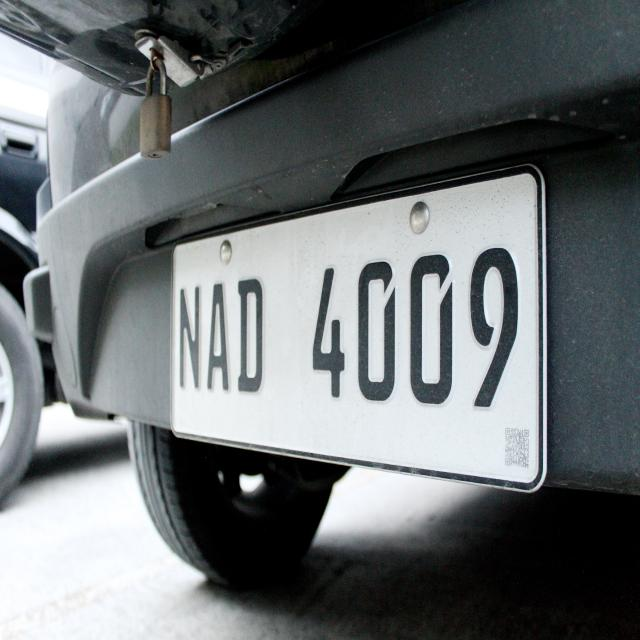number: (172, 161, 547, 491)
